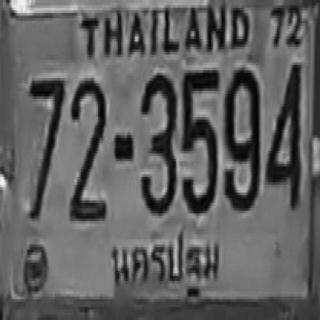N02: (68, 74, 105, 217)
N03: (139, 70, 175, 213)
N04: (265, 60, 300, 206)
N05: (181, 68, 217, 211)
N07: (28, 75, 64, 216)
N09: (224, 64, 259, 207)
P28: (108, 225, 228, 302)
